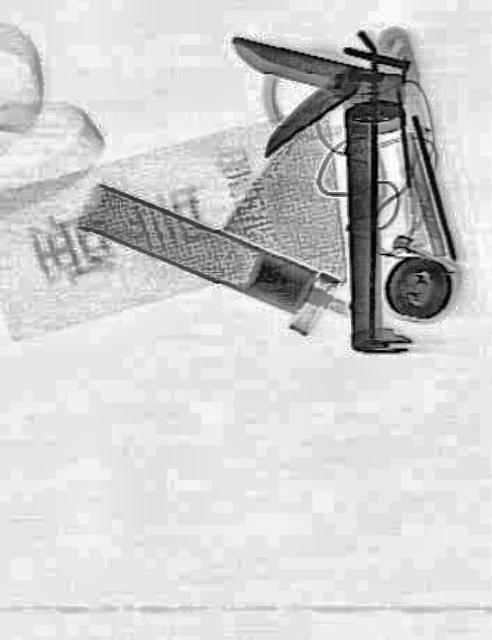Knife: (227, 29, 410, 350)
